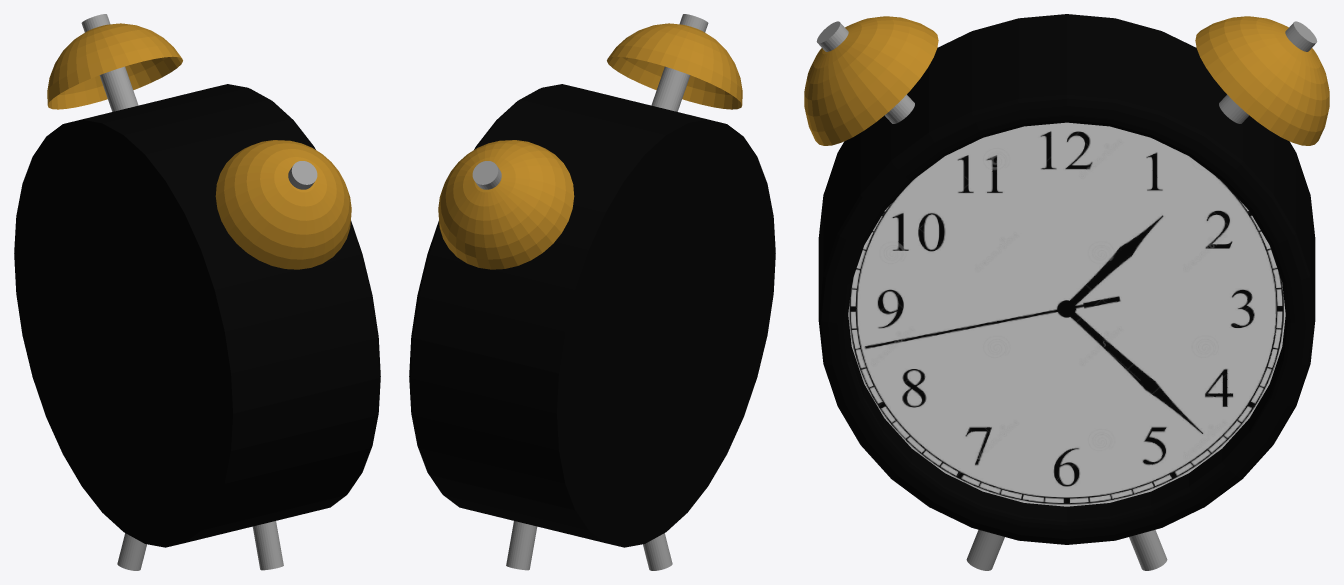
The model's file is Clock.fbx.
3 views of the same model, side by side, from view 1: azimuth 30°, elevation 25°; view 2: azimuth 150°, elevation 25°; view 3: azimuth 270°, elevation 25° (orthographic). The views are drawn at different scales.
Visible parts, largest first — view 1: Cylinder, Sphere, Sphere.001, Cylinder.002, Cylinder.003, Cylinder.005, Cylinder.001; view 2: Cylinder, Sphere.001, Sphere, Cylinder.001, Cylinder.004, Cylinder.005, Cylinder.002; view 3: Cylinder, Sphere, Sphere.001, Cylinder.001, Cylinder.002, Cylinder.003, Cylinder.004.
Boxes of the visible parts, left/top/right/bottom form: Cylinder: left=14, top=84, right=380, bottom=547; Sphere: left=215, top=140, right=351, bottom=269; Sphere.001: left=47, top=23, right=182, bottom=109; Cylinder.002: left=81, top=14, right=138, bottom=111; Cylinder.003: left=252, top=521, right=283, bottom=570; Cylinder.005: left=117, top=533, right=146, bottom=570; Cylinder.001: left=288, top=161, right=317, bottom=189; Cylinder: left=409, top=84, right=775, bottom=547; Sphere.001: left=438, top=140, right=574, bottom=269; Sphere: left=607, top=23, right=742, bottom=109; Cylinder.001: left=651, top=14, right=708, bottom=111; Cylinder.004: left=506, top=521, right=537, bottom=570; Cylinder.005: left=643, top=533, right=672, bottom=570; Cylinder.002: left=472, top=161, right=501, bottom=189; Cylinder: left=818, top=14, right=1315, bottom=544; Sphere: left=804, top=16, right=938, bottom=145; Sphere.001: left=1195, top=16, right=1329, bottom=145; Cylinder.001: left=816, top=21, right=914, bottom=123; Cylinder.002: left=1219, top=21, right=1317, bottom=123; Cylinder.003: left=966, top=529, right=1004, bottom=570; Cylinder.004: left=1129, top=529, right=1167, bottom=570.
Size of the model in its own units: 247 by 702 by 635.
